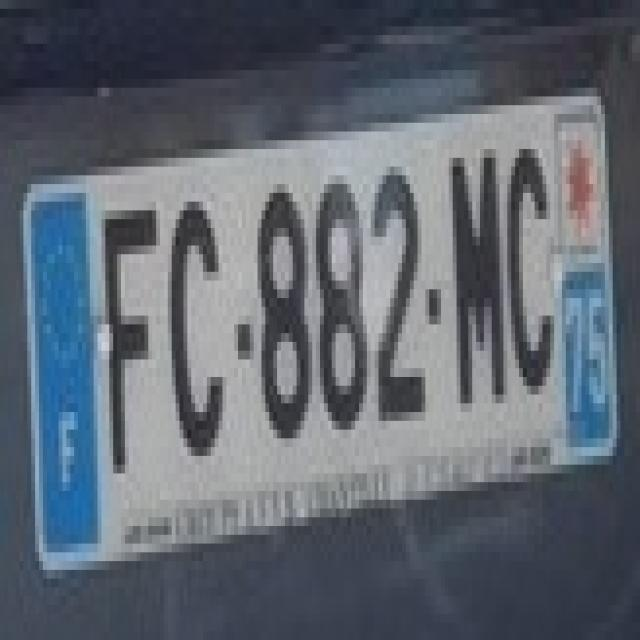EU: (22, 104, 615, 576)
France: (28, 187, 98, 562)
